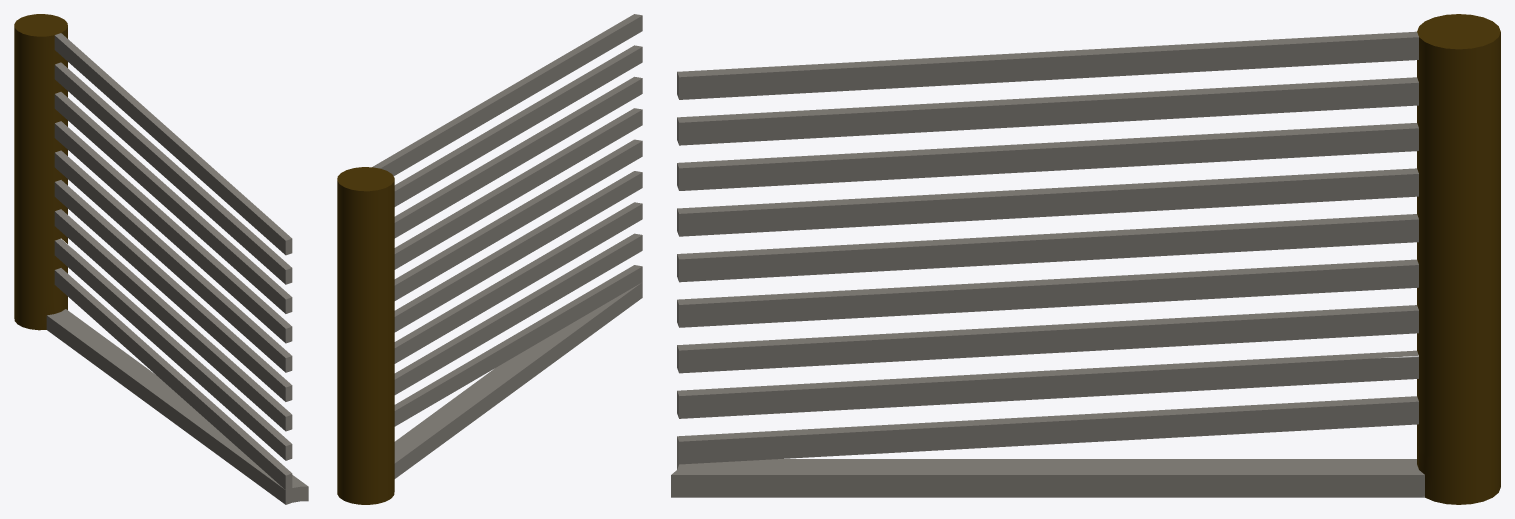
Rendered from Goal_Fence.fbx.
3 views of the same model, side by side, from view 1: azimuth 30°, elevation 25°; view 2: azimuth 150°, elevation 25°; view 3: azimuth 270°, elevation 25° (orthographic). The views are drawn at different scales.
Parts seen in each view (by area): view 1: pCylinder6; view 2: pCylinder6; view 3: pCylinder6.
Part boxes in pixels (x1,y1,x2,y2): pCylinder6: (14, 14, 308, 504); pCylinder6: (337, 14, 642, 504); pCylinder6: (671, 14, 1500, 504).
Size of the model in its own units: 100 by 600 by 990.
Materials: 1 (1 with a texture image).
